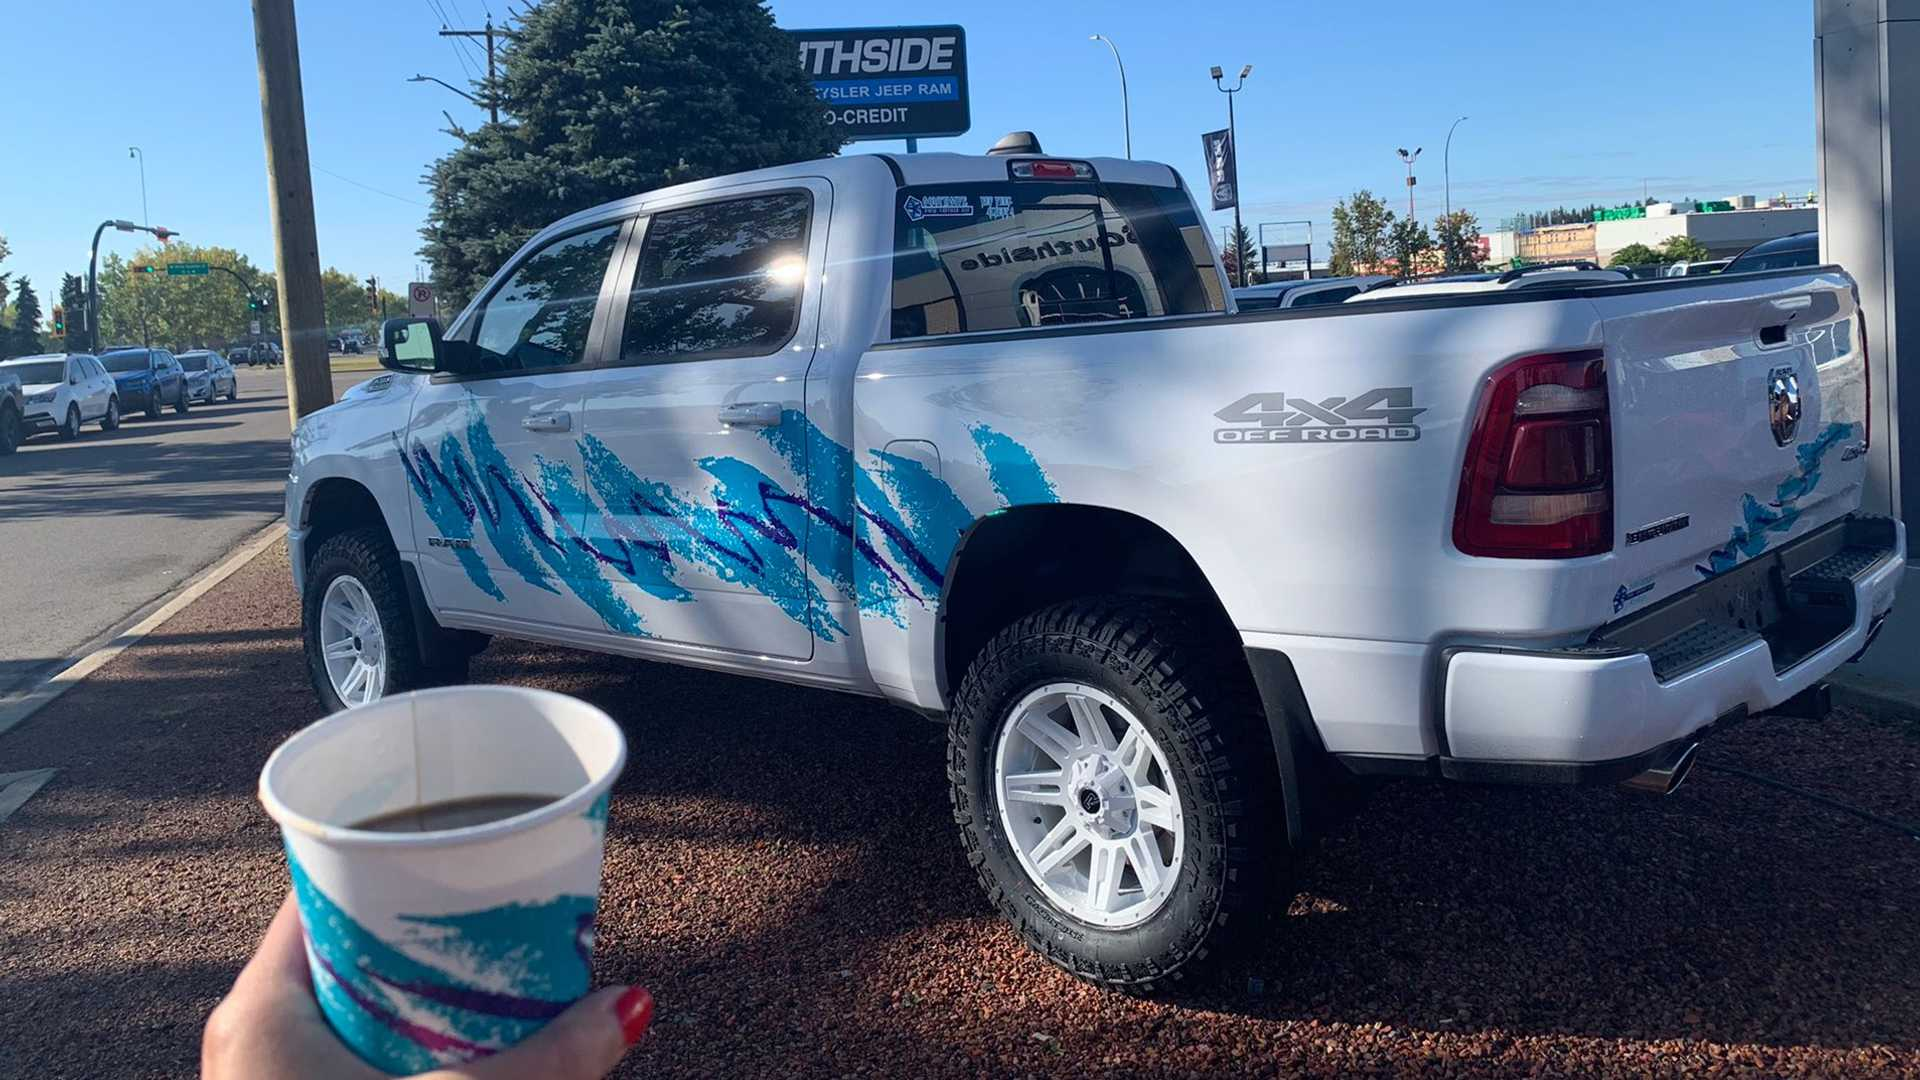Car: (278, 141, 1896, 690)
